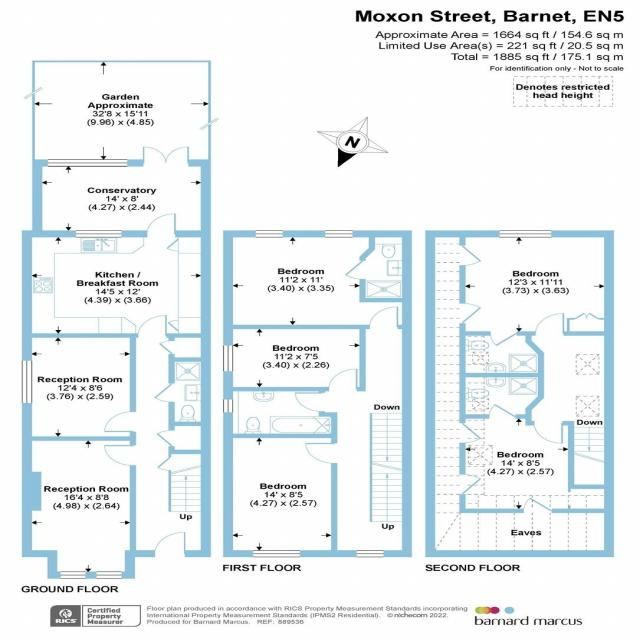DOOR: (154, 531, 186, 558), (531, 420, 565, 445), (145, 213, 177, 238), (534, 312, 567, 336), (304, 442, 338, 465), (292, 391, 327, 413), (368, 306, 400, 330), (327, 368, 359, 392), (103, 411, 137, 433), (103, 445, 137, 467), (137, 315, 168, 338), (458, 244, 484, 267), (458, 473, 483, 496), (486, 402, 517, 420), (458, 302, 483, 324), (458, 422, 483, 444), (522, 496, 554, 513), (488, 330, 518, 348), (343, 259, 367, 281), (152, 382, 176, 403)
DOUBLE DOOR: (136, 143, 191, 168)
ROOM: (21, 213, 212, 339), (223, 230, 413, 330), (459, 229, 614, 348), (459, 403, 614, 514), (32, 145, 212, 238), (21, 436, 137, 579), (222, 433, 338, 558), (21, 333, 136, 441), (222, 324, 367, 392)
WINDOW: (47, 158, 128, 167), (21, 360, 33, 404), (252, 549, 301, 558), (498, 230, 552, 238), (75, 230, 123, 238), (222, 344, 235, 372), (355, 549, 384, 558), (254, 230, 284, 238), (324, 230, 354, 238), (59, 571, 87, 579), (95, 571, 123, 579), (222, 398, 234, 413)
